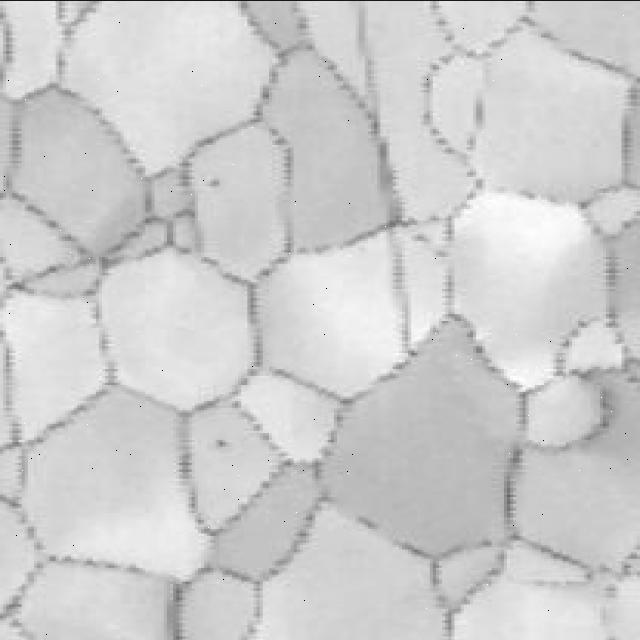good_void: (203, 176, 226, 191), (212, 437, 237, 450), (411, 227, 429, 243)
